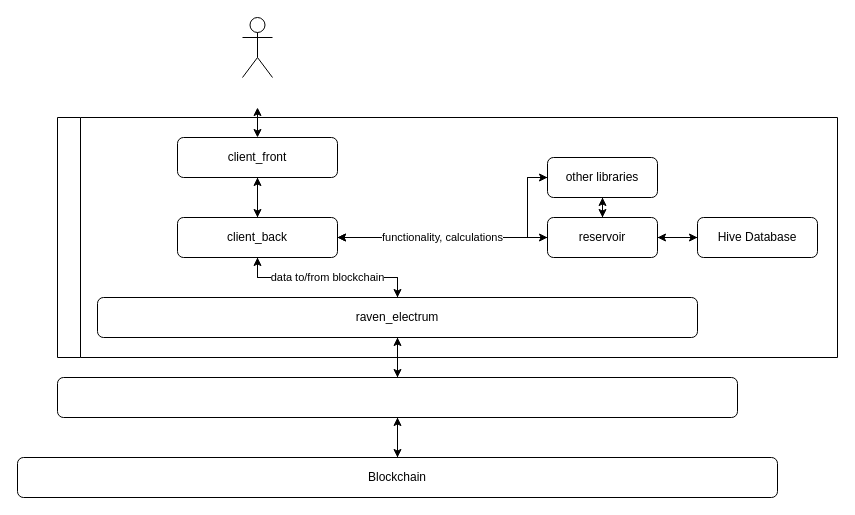
Some shapes in this 855 by 515 pixel diagram are drawn without their labels. The shapes that lost their labels are listed below. From the top down, each one's centre as x and y in pixels, then its label:
At point (257, 47): "users".
At point (447, 237): "Mobile App".
At point (397, 397): "Electrum server".
